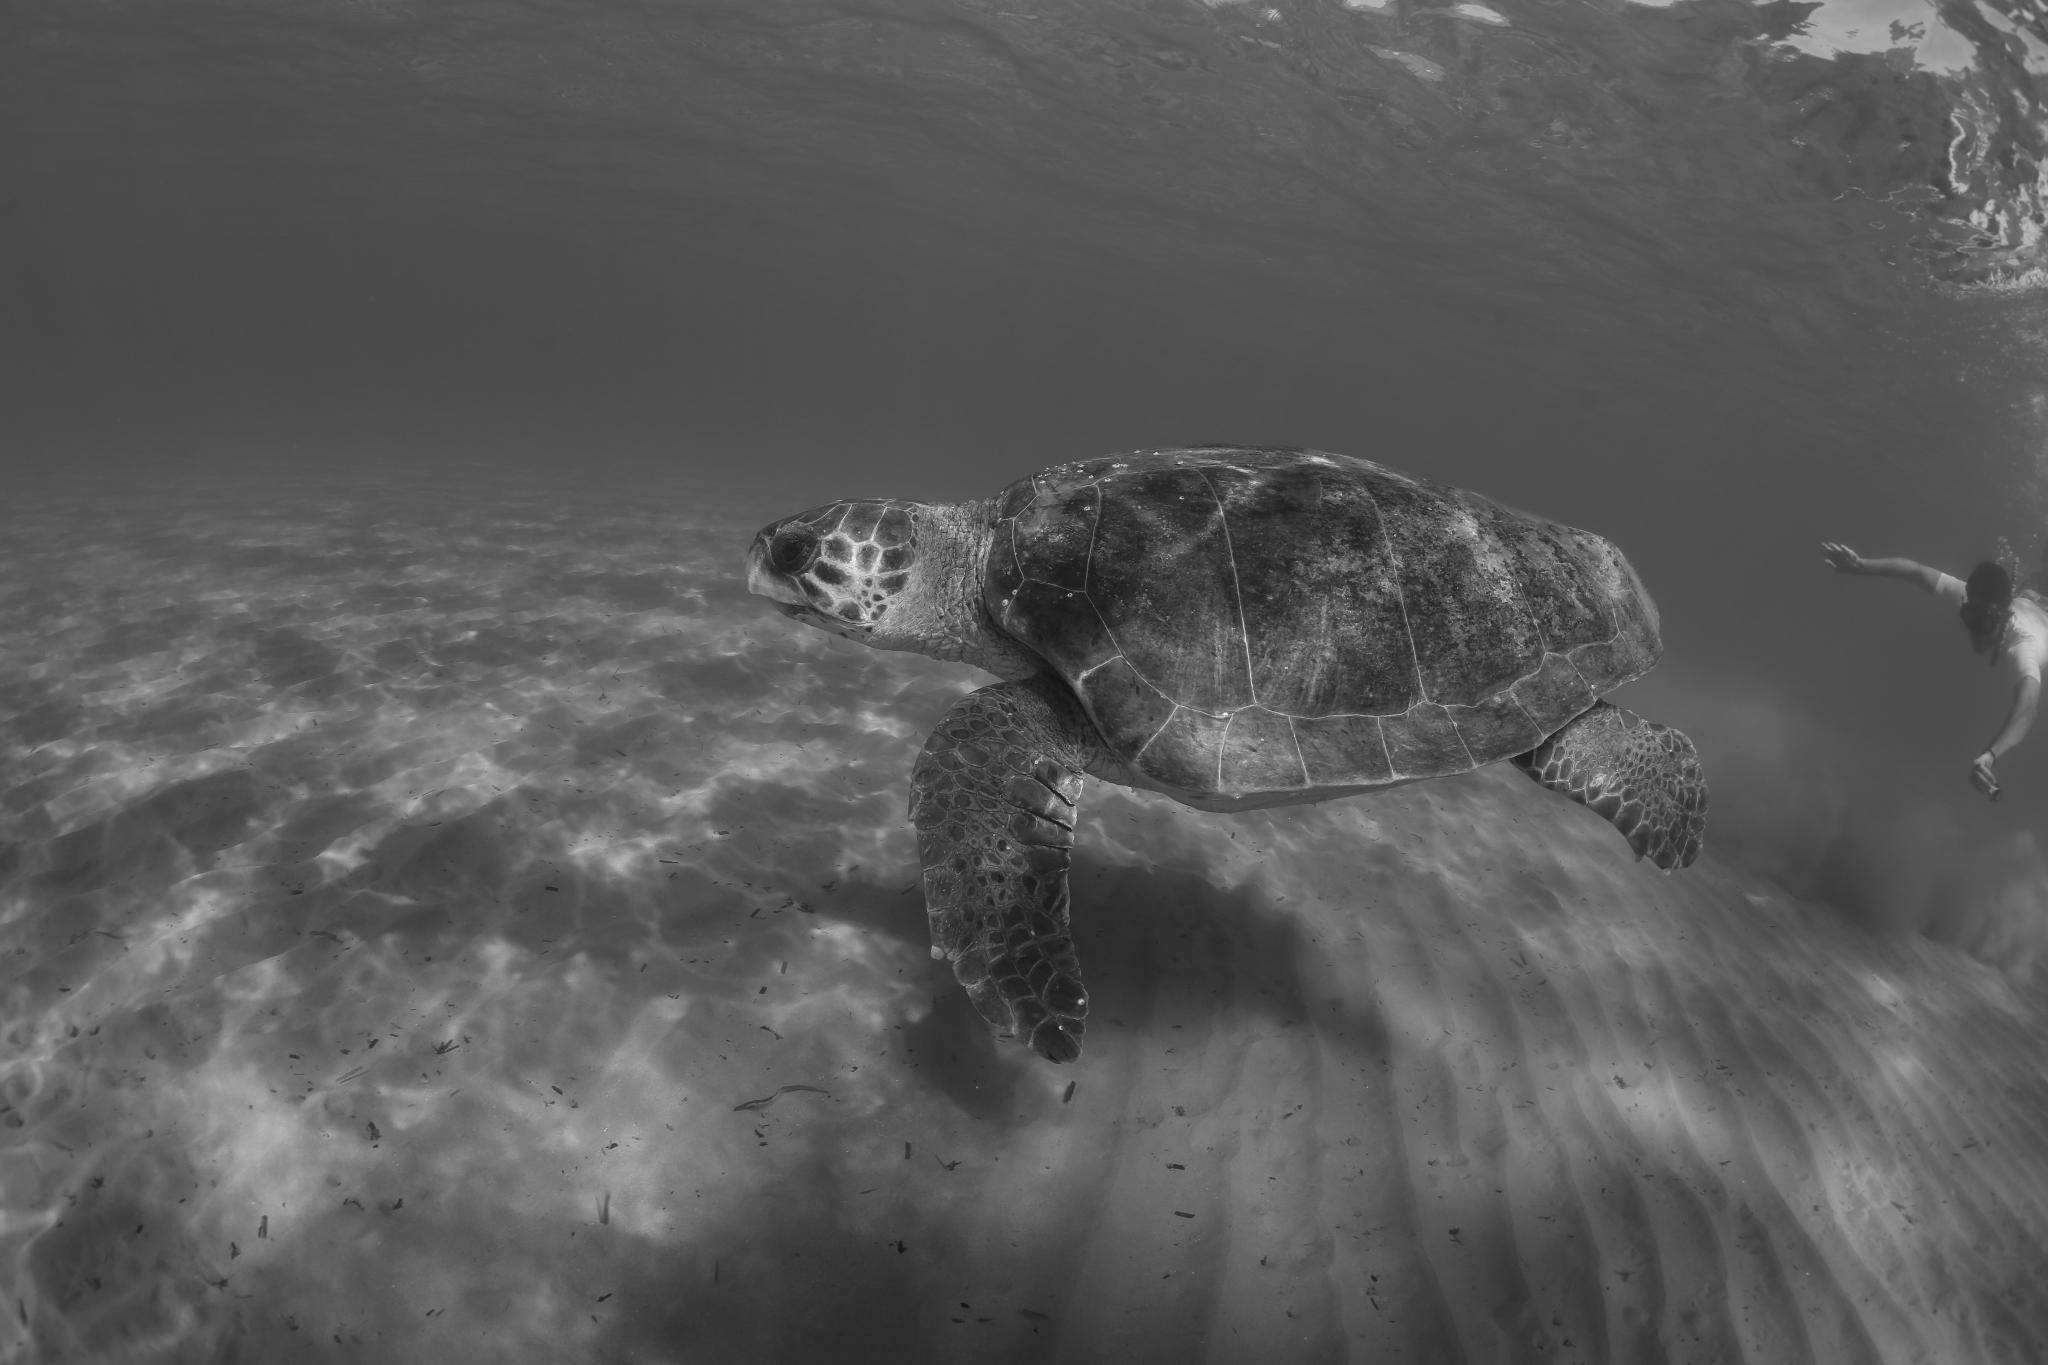Head: (747, 499, 984, 660)
